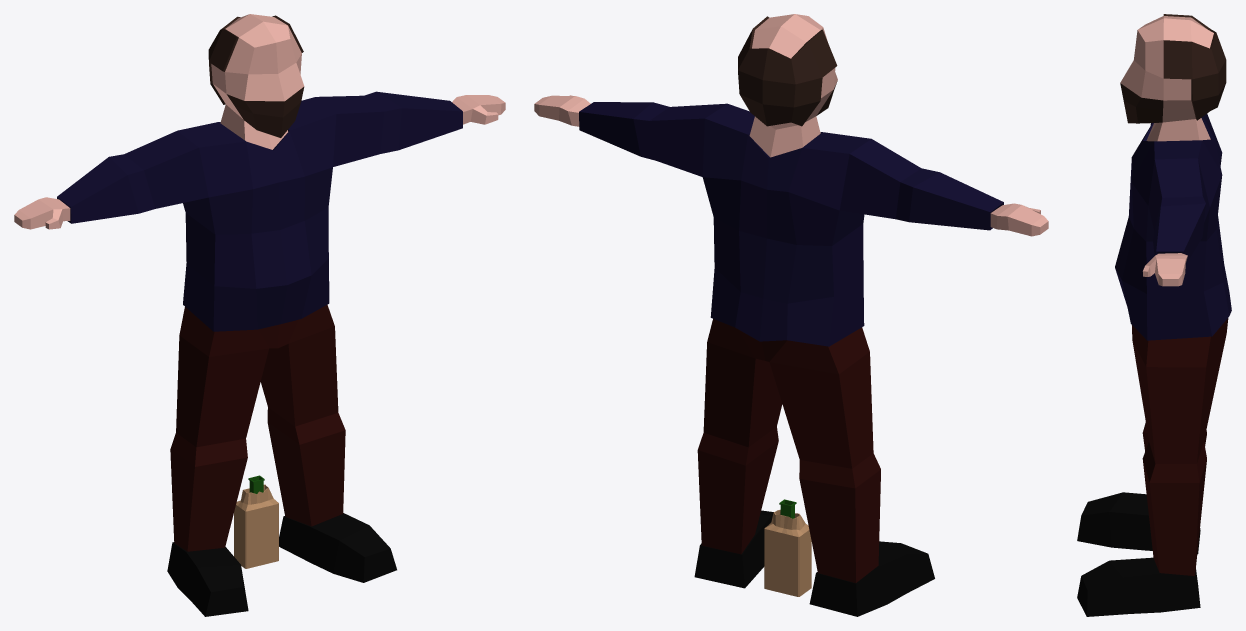
Rendered from low_poly_character_and_bottle.fbx.
3 renders of one model, left to right at view 1: azimuth 30°, elevation 25°; view 2: azimuth 150°, elevation 25°; view 3: azimuth 270°, elevation 25°, orthographic. The views are drawn at different scales.
Visible parts, largest first — view 1: Low_Poly_Character, Bottle; view 2: Low_Poly_Character, Bottle; view 3: Low_Poly_Character.
Boxes of the visible parts, left/top/right/bottom form: Low_Poly_Character: left=14, top=14, right=505, bottom=616; Bottle: left=234, top=475, right=278, bottom=568; Low_Poly_Character: left=534, top=14, right=1048, bottom=616; Bottle: left=764, top=499, right=811, bottom=596; Low_Poly_Character: left=1077, top=14, right=1231, bottom=616.
Size of the model in its own units: 172 by 185 by 47.06.
